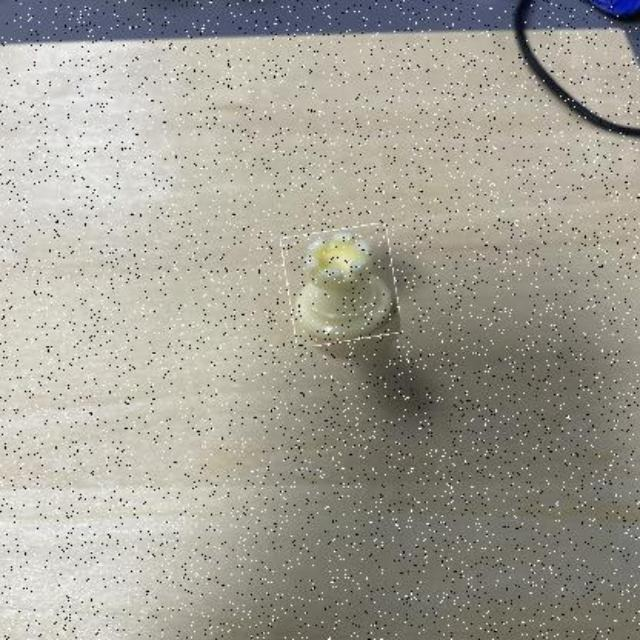white-rook: (285, 227, 397, 345)
